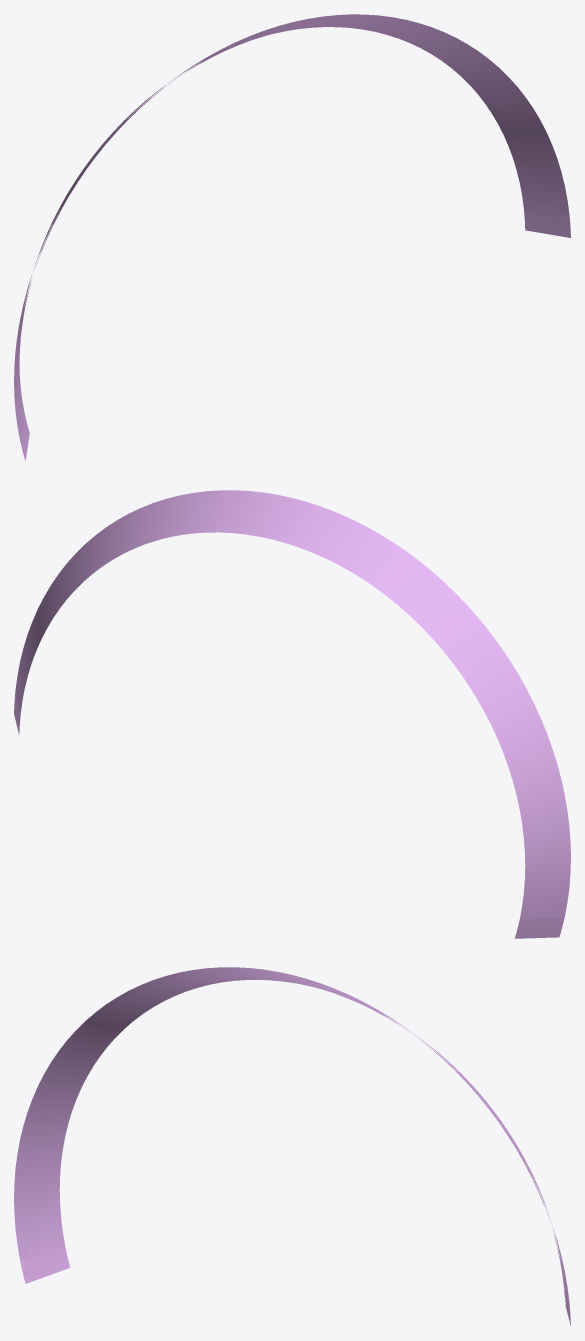
File: Mesh_Note_33.fbx
The picture shows the model from 3 angles, top to bottom: view 1: azimuth 30°, elevation 25°; view 2: azimuth 150°, elevation 25°; view 3: azimuth 330°, elevation 25°; orthographic projection.
Parts seen in each view (by area): view 1: Mesh_Note_33; view 2: Mesh_Note_33; view 3: Mesh_Note_33.
Part boxes in pixels (x1,y1,x2,y2): Mesh_Note_33: [14, 14, 570, 460]; Mesh_Note_33: [14, 490, 570, 938]; Mesh_Note_33: [14, 967, 570, 1325].
Bounding box in the file's own units: 3.56 × 2.28 × 0.2235.
